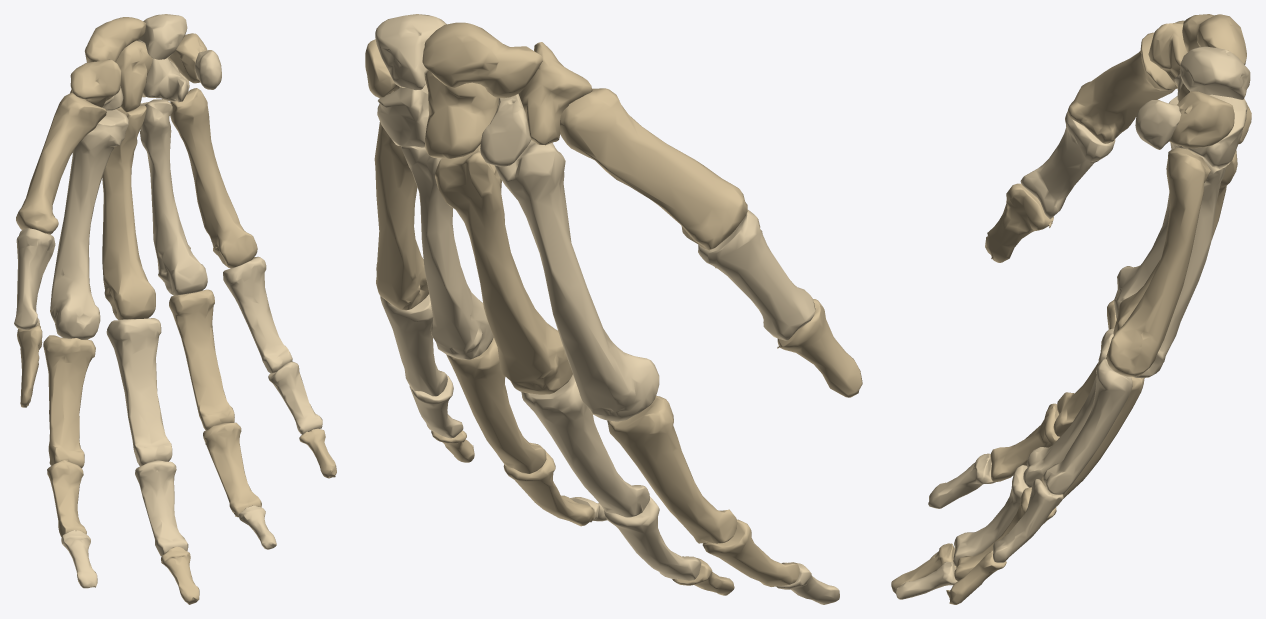
File: r-hand.glb
3 renders of one model, left to right at view 1: azimuth 30°, elevation 25°; view 2: azimuth 150°, elevation 25°; view 3: azimuth 270°, elevation 25°, orthographic. The views are drawn at different scales.
Visible parts, largest first — view 1: right-second-metacarpal-bone, right-third-metacarpal-bone, right-fourth-metacarpal-bone, right-fifth-metacarpal-bone, right-middle-finger-proximal-phalanx, right-first-metacarpal-bone, right-index-finger-proximal-phalanx, right-ring-finger-proximal-phalanx, right-little-finger-proximal-phalanx, right-middle-finger-middle-phalanx, right-thumb-proximal-phalanx, right-ring-finger-middle-phalanx (+14 smaller); view 2: right-second-metacarpal-bone, right-third-metacarpal-bone, right-first-metacarpal-bone, right-fourth-metacarpal-bone, right-index-finger-proximal-phalanx, right-fifth-metacarpal-bone, right-middle-finger-proximal-phalanx, right-thumb-proximal-phalanx, right-scaphoid, right-ring-finger-proximal-phalanx, right-capitate, right-trapezium (+13 smaller); view 3: right-fifth-metacarpal-bone, right-first-metacarpal-bone, right-little-finger-proximal-phalanx, right-thumb-proximal-phalanx, right-fourth-metacarpal-bone, right-lunate, right-triquetral, right-thumb-distal-phalanx, right-middle-finger-proximal-phalanx, right-scaphoid, right-little-finger-middle-phalanx, right-middle-finger-middle-phalanx (+13 smaller).
Part boxes in pixels (<box>): right-second-metacarpal-bone: <box>50,109,128,339</box>; right-third-metacarpal-bone: <box>102,105,155,319</box>; right-fourth-metacarpal-bone: <box>140,99,207,295</box>; right-fifth-metacarpal-bone: <box>170,88,257,268</box>; right-middle-finger-proximal-phalanx: <box>106,318,172,466</box>; right-first-metacarpal-bone: <box>16,92,106,234</box>; right-index-finger-proximal-phalanx: <box>43,335,95,468</box>; right-ring-finger-proximal-phalanx: <box>169,289,234,430</box>; right-little-finger-proximal-phalanx: <box>223,256,292,373</box>; right-middle-finger-middle-phalanx: <box>135,460,188,556</box>; right-thumb-proximal-phalanx: <box>14,228,55,329</box>; right-ring-finger-middle-phalanx: <box>203,422,261,517</box>; right-second-metacarpal-bone: <box>494,140,659,421</box>; right-third-metacarpal-bone: <box>435,144,572,394</box>; right-first-metacarpal-bone: <box>560,88,747,250</box>; right-fourth-metacarpal-bone: <box>401,146,493,359</box>; right-index-finger-proximal-phalanx: <box>607,395,737,543</box>; right-fifth-metacarpal-bone: <box>374,122,428,310</box>; right-middle-finger-proximal-phalanx: <box>521,374,649,517</box>; right-thumb-proximal-phalanx: <box>698,210,815,340</box>; right-scaphoid: <box>422,22,542,98</box>; right-ring-finger-proximal-phalanx: <box>446,337,546,473</box>; right-capitate: <box>425,70,498,158</box>; right-trapezium: <box>518,42,592,145</box>; right-fifth-metacarpal-bone: <box>1106,147,1210,376</box>; right-first-metacarpal-bone: <box>1067,32,1177,143</box>; right-little-finger-proximal-phalanx: <box>1043,359,1132,494</box>; right-thumb-proximal-phalanx: <box>1020,112,1115,219</box>; right-fourth-metacarpal-bone: <box>1133,153,1226,378</box>; right-lunate: <box>1180,46,1250,99</box>; right-triquetral: <box>1169,91,1234,148</box>; right-thumb-distal-phalanx: <box>985,183,1053,262</box>; right-middle-finger-proximal-phalanx: <box>1023,328,1114,487</box>; right-scaphoid: <box>1182,14,1246,64</box>; right-little-finger-middle-phalanx: <box>993,479,1063,562</box>; right-middle-finger-middle-phalanx: <box>953,465,1028,565</box>.
Bounding box in the file's own units: 0.2628 × 0.3974 × 0.2132.
